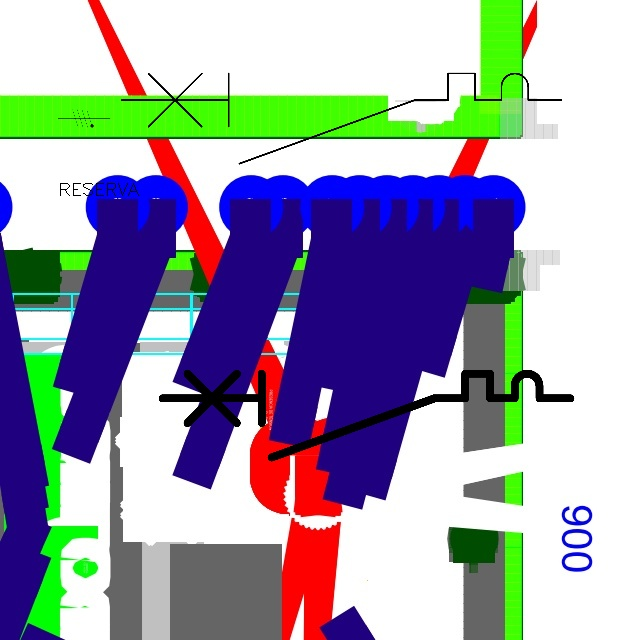interruptor_termomagnetico: (110, 62, 572, 175), (152, 363, 581, 468)
